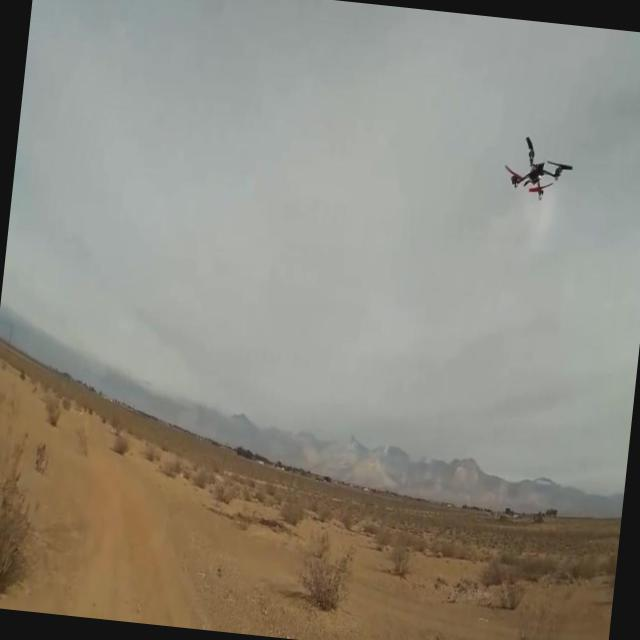drone: (499, 130, 574, 207)
